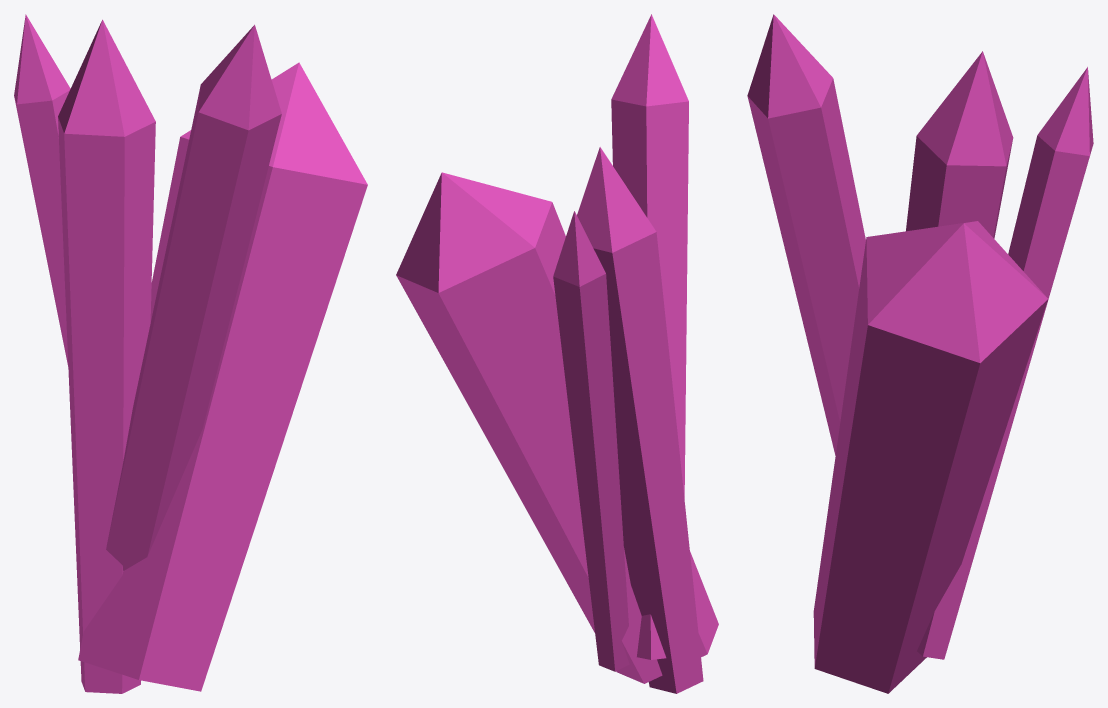
The model's file is small_crystals_9_3.fbx.
3 renders of one model, left to right at view 1: azimuth 30°, elevation 25°; view 2: azimuth 150°, elevation 25°; view 3: azimuth 270°, elevation 25°, orthographic. The views are drawn at different scales.
Visible parts, largest first — view 1: small crystals.015; view 2: small crystals.015; view 3: small crystals.015.
Boxes of the visible parts, x1,y1,x2,y2 form: small crystals.015: [14, 14, 367, 693]; small crystals.015: [396, 14, 718, 693]; small crystals.015: [747, 14, 1093, 693].
Size of the model in its own units: 120 by 261 by 119.
